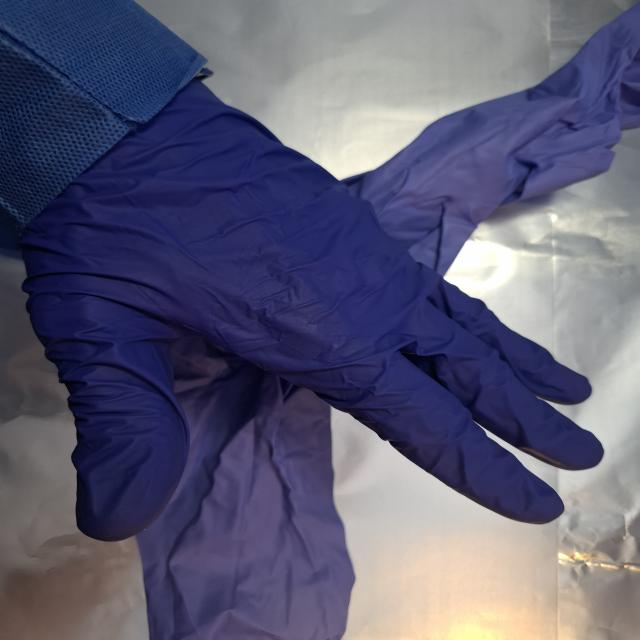glove_on: (16, 82, 608, 544)
